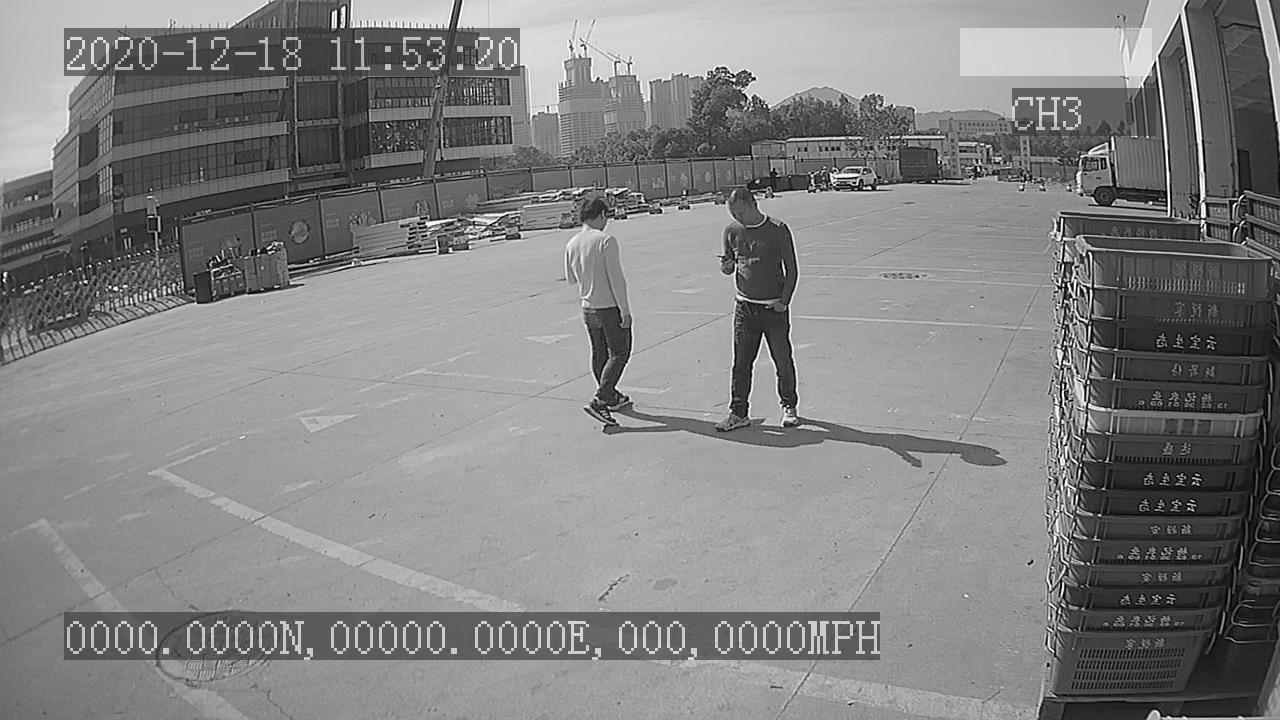person: (709, 177, 809, 438), (552, 190, 642, 436)
